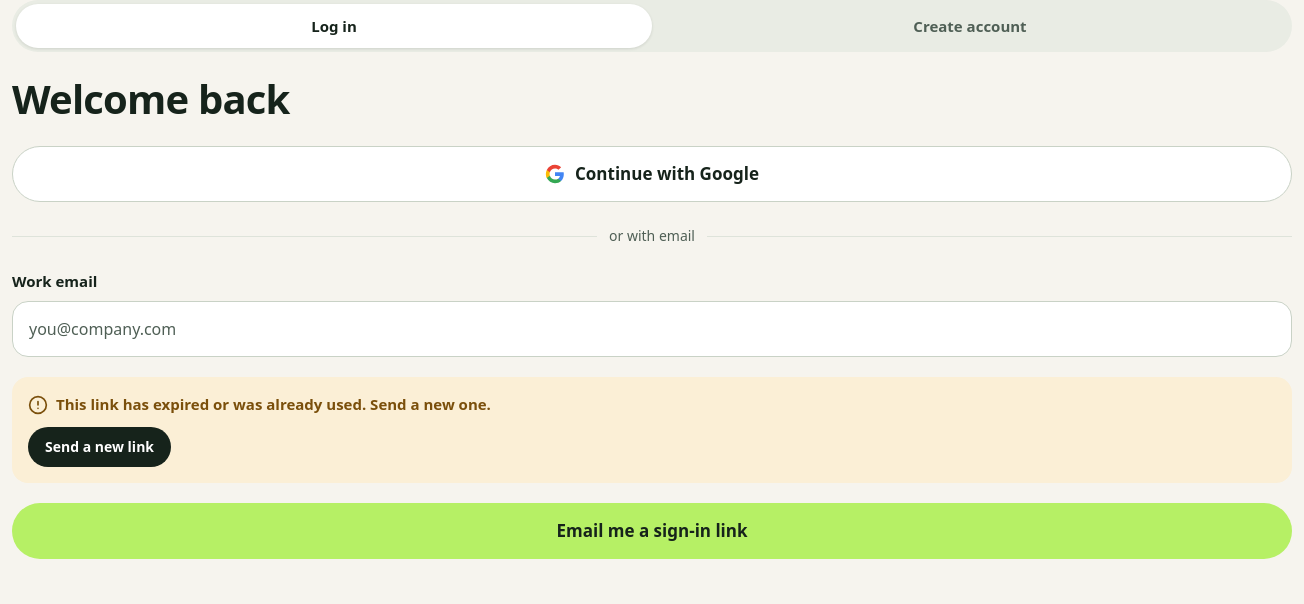
it: SignInPanel › asks for a valid address when a new link is requested without one
What coordinates should you click on to do the following:
click the button "Send a new link"
I would click on:
 (100, 447)
Its box is [28,427,171,467].
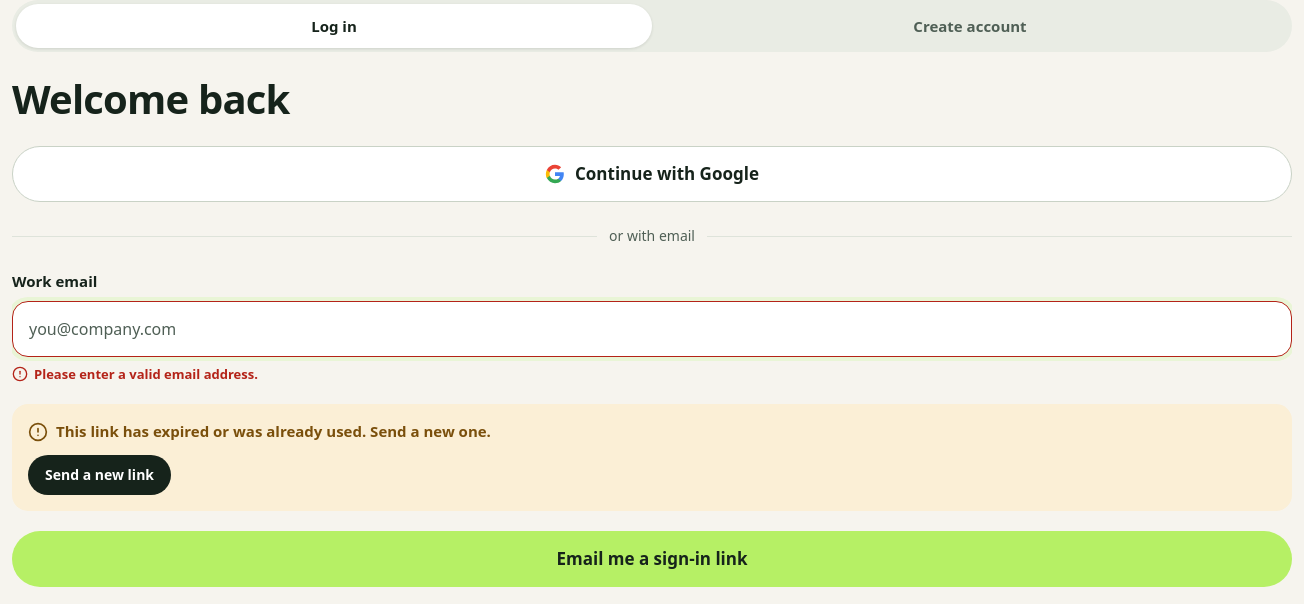
Expected: the text "Please enter a valid email address." is shown, [12,364,258,382]
